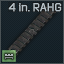Remington RAHG 4 inch rail: (0, 0, 64, 64)
